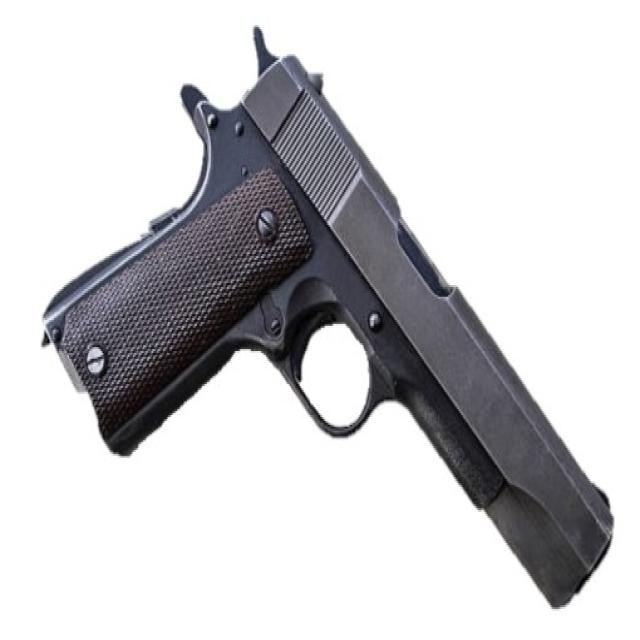pistol: (38, 19, 623, 620)
